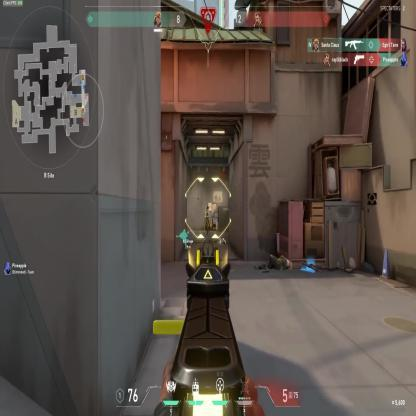enemy: (204, 206, 210, 235)
enemy_head: (206, 206, 208, 211)
